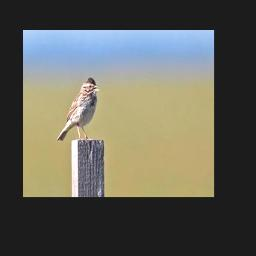Sparrow: (55, 74, 101, 146)
